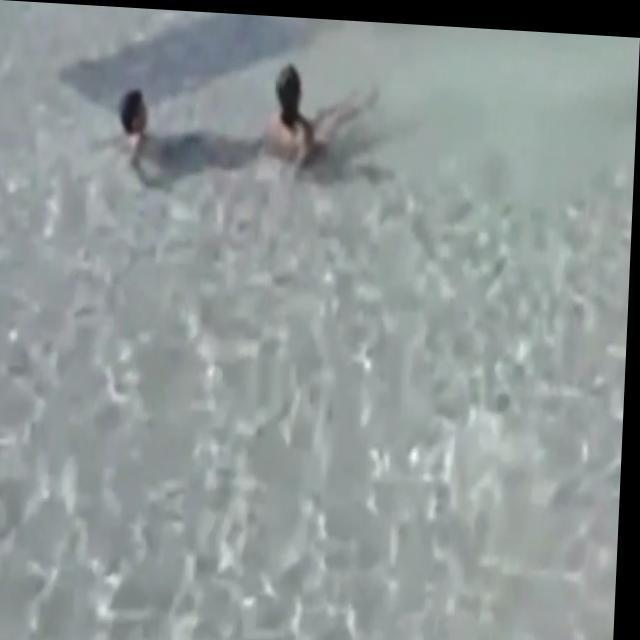swimming: (254, 63, 411, 184), (95, 77, 248, 188)
